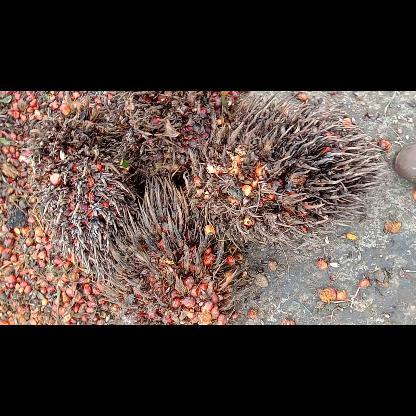Terlalu masak: (184, 91, 392, 247), (96, 172, 256, 324), (22, 102, 150, 272), (94, 91, 244, 187)
